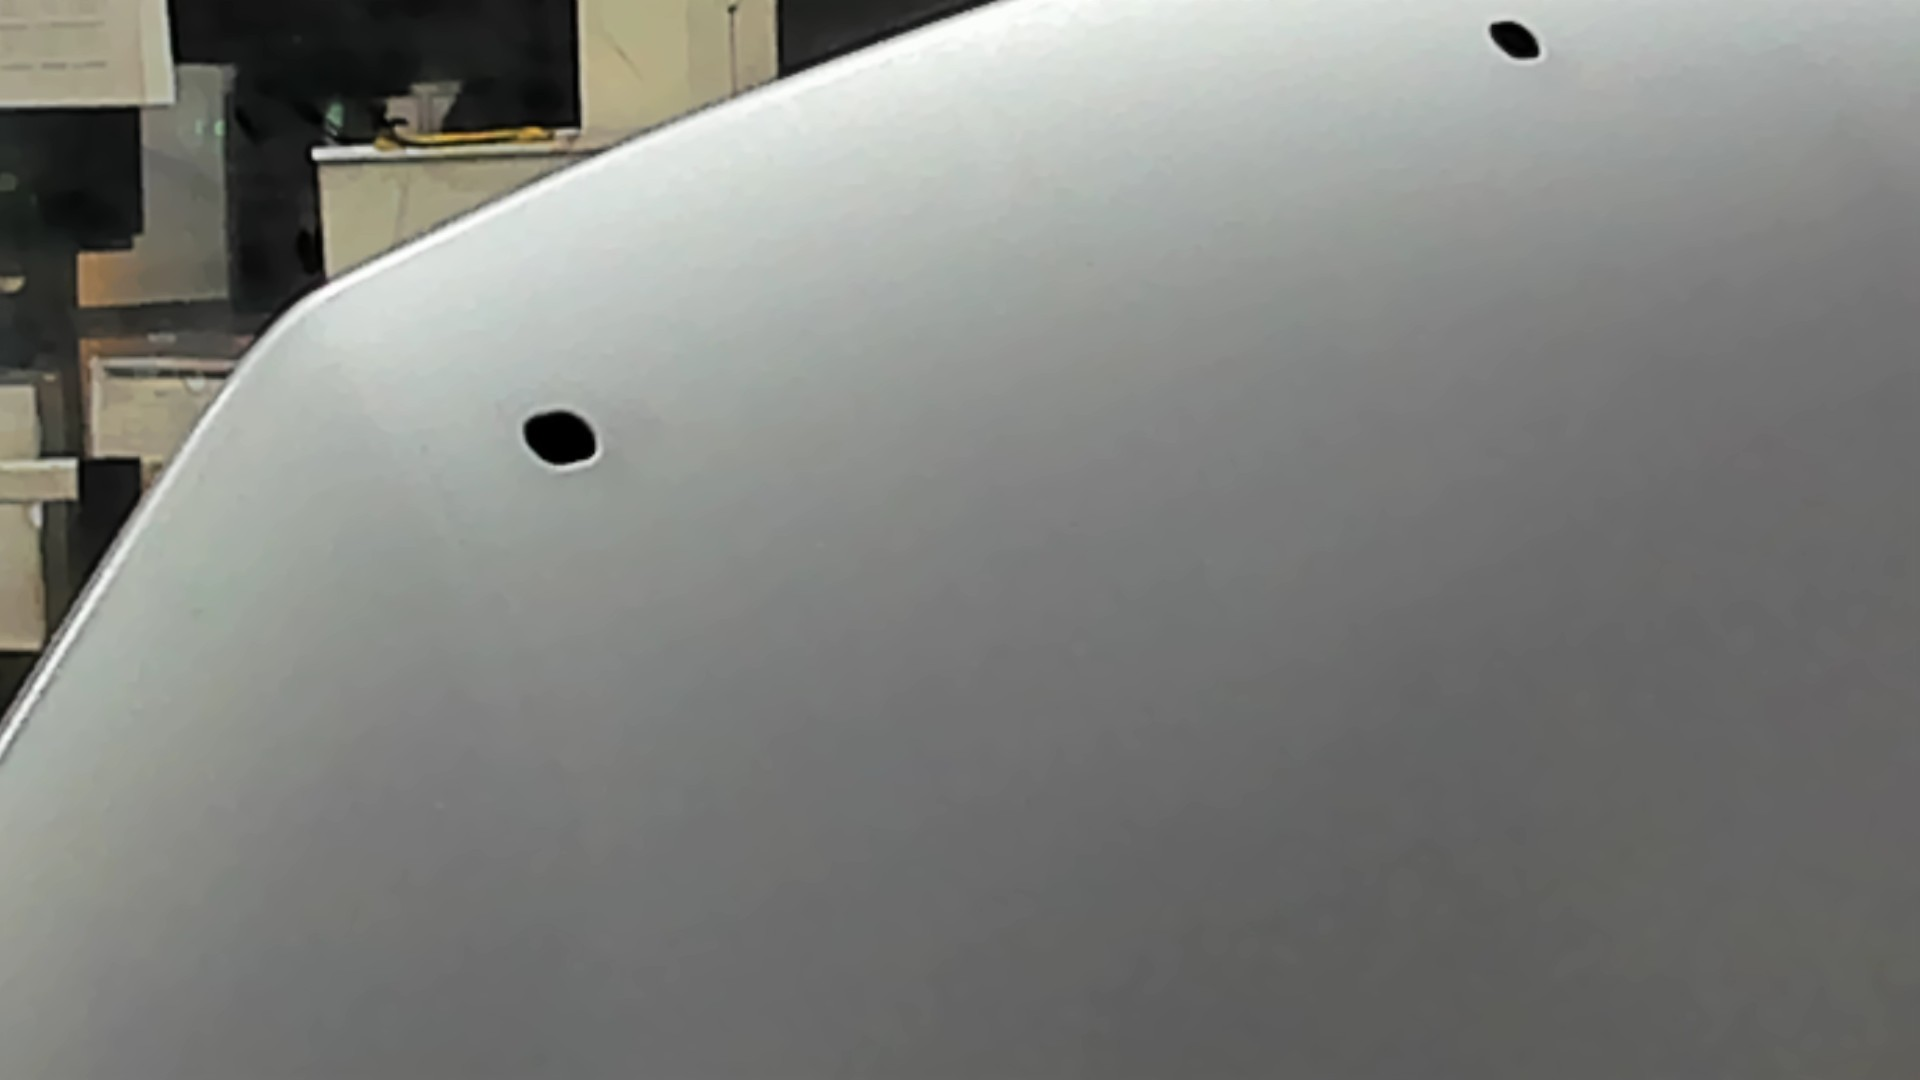Agujero: (516, 405, 603, 469), (1484, 17, 1545, 65)
